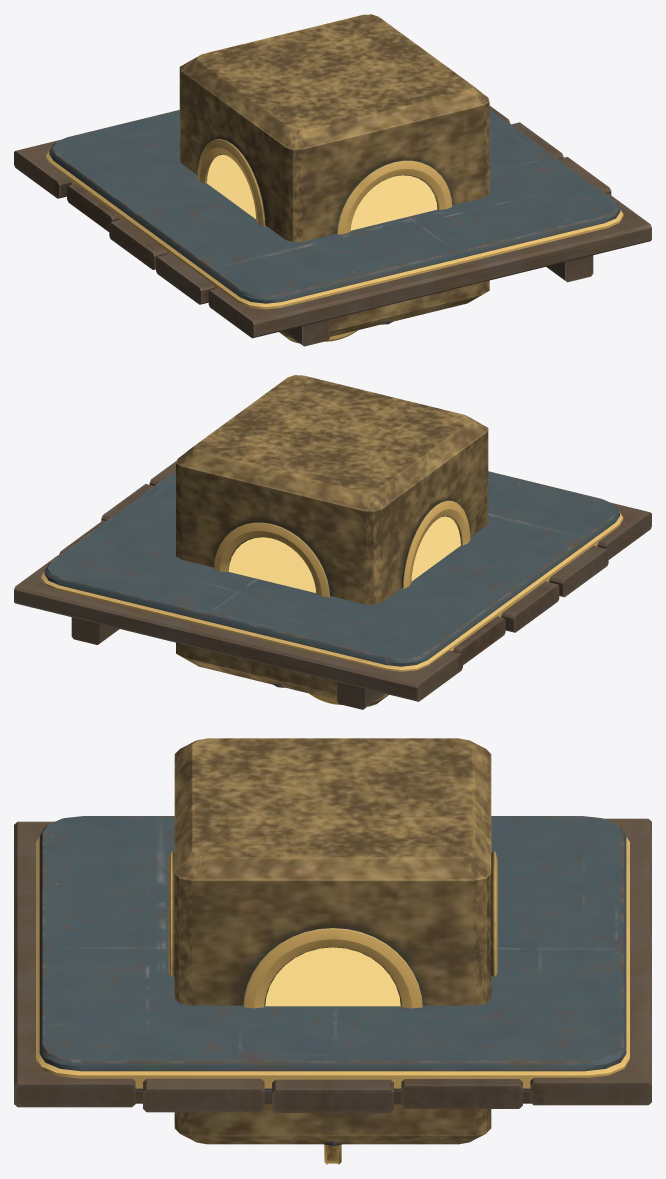
The model's file is kit.glb.
The picture shows the model from 3 angles, top to bottom: view 1: azimuth 30°, elevation 25°; view 2: azimuth 150°, elevation 25°; view 3: azimuth 270°, elevation 25°; orthographic projection. The views are drawn at different scales.
Visible parts, largest first — view 1: qb, lift, fall, qb__glow; view 2: qb, lift, fall, qb__glow; view 3: lift, qb, fall, qb__glow.
Part boxes in pixels (x1,y1,x2,y2): qb: (179, 14, 489, 343); lift: (46, 109, 623, 309); fall: (14, 106, 651, 346); qb__glow: (207, 154, 437, 230); qb: (176, 375, 488, 706); lift: (41, 470, 623, 671); fall: (14, 460, 651, 709); qb__glow: (228, 516, 460, 592); lift: (36, 816, 629, 1091); qb: (168, 738, 497, 1144); fall: (14, 818, 651, 1112); qb__glow: (265, 947, 400, 1006).
Size of the model in its own units: 2.18 by 1.35 by 2.17.
Materials: 5 (1 with a texture image).
